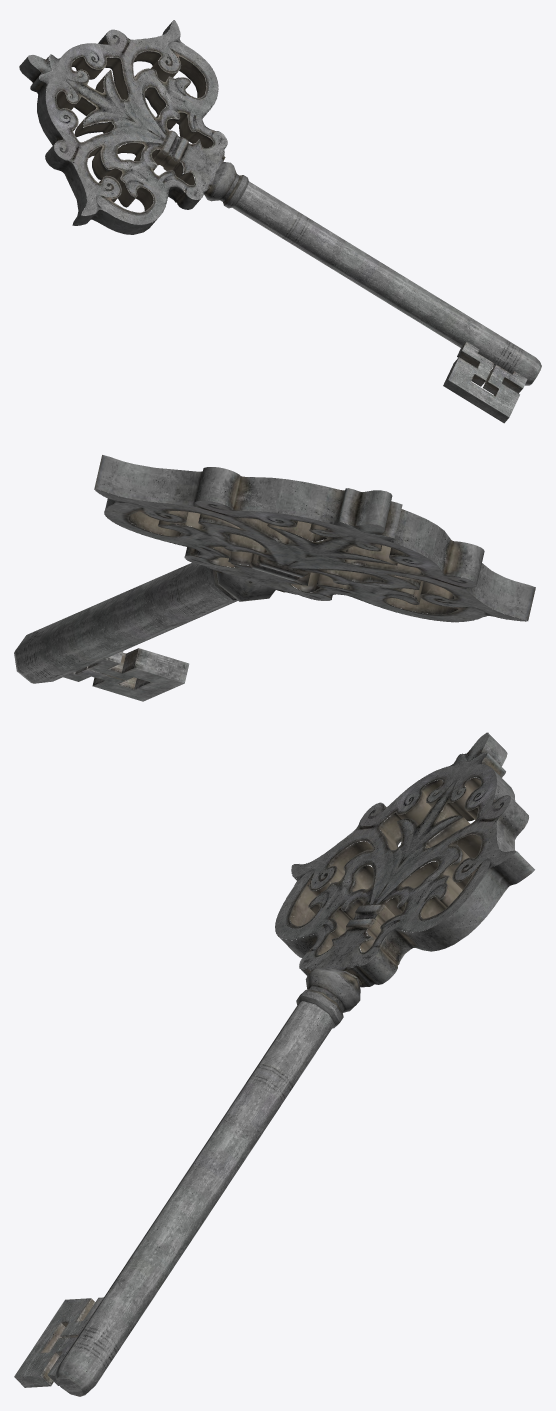
The model's file is old_key.glb.
3 views of the same model, one above another, from view 1: azimuth 30°, elevation 25°; view 2: azimuth 150°, elevation 25°; view 3: azimuth 270°, elevation 25° (orthographic). The views are drawn at different scales.
Parts seen in each view (by area): view 1: Key; view 2: Key; view 3: Key.
Part boxes in pixels (x1,y1,x2,y2): Key: (19,20,541,423); Key: (14,455,535,701); Key: (14,732,534,1396).
Size of the model in its own units: 0.1478 by 0.1181 by 0.125.
Materials: 1 (1 with a texture image).
